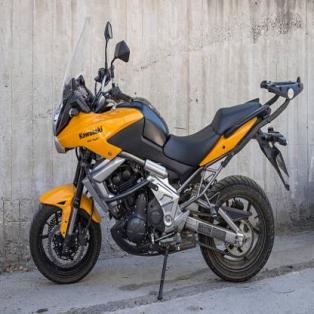Motocicleta: (22, 21, 298, 304)
